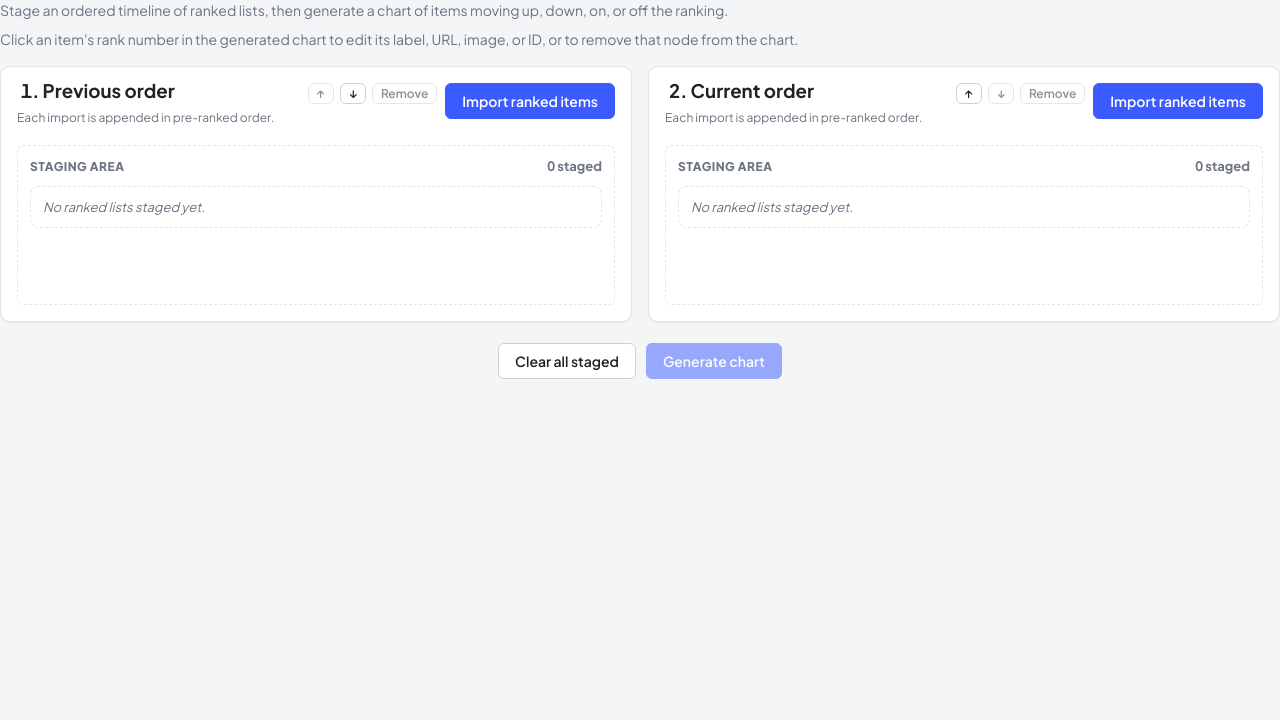
Test case: BumpChartPanel staging flow › inserts picked sort versions at the clicked column instead of the end
Click the 1st button "Import ranked items" at [530, 101], box [445, 83, 615, 119]
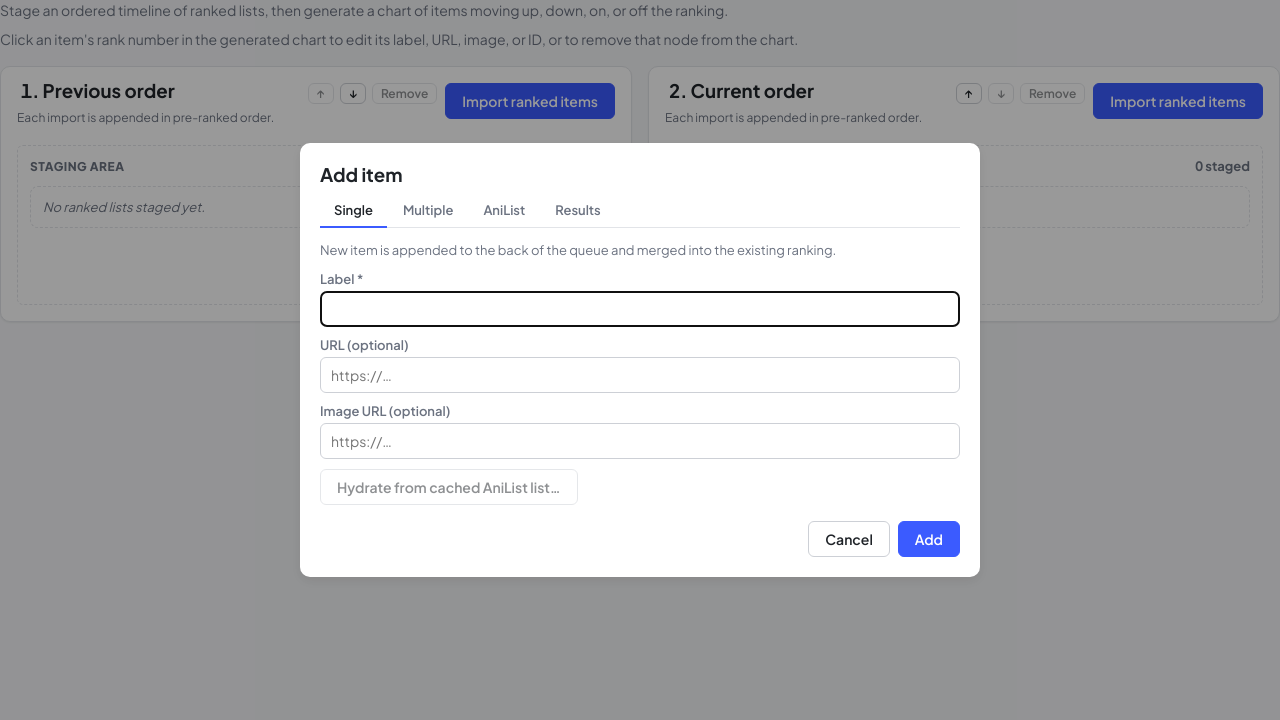
Click the tab "Results" at [578, 211], box [541, 194, 615, 228]
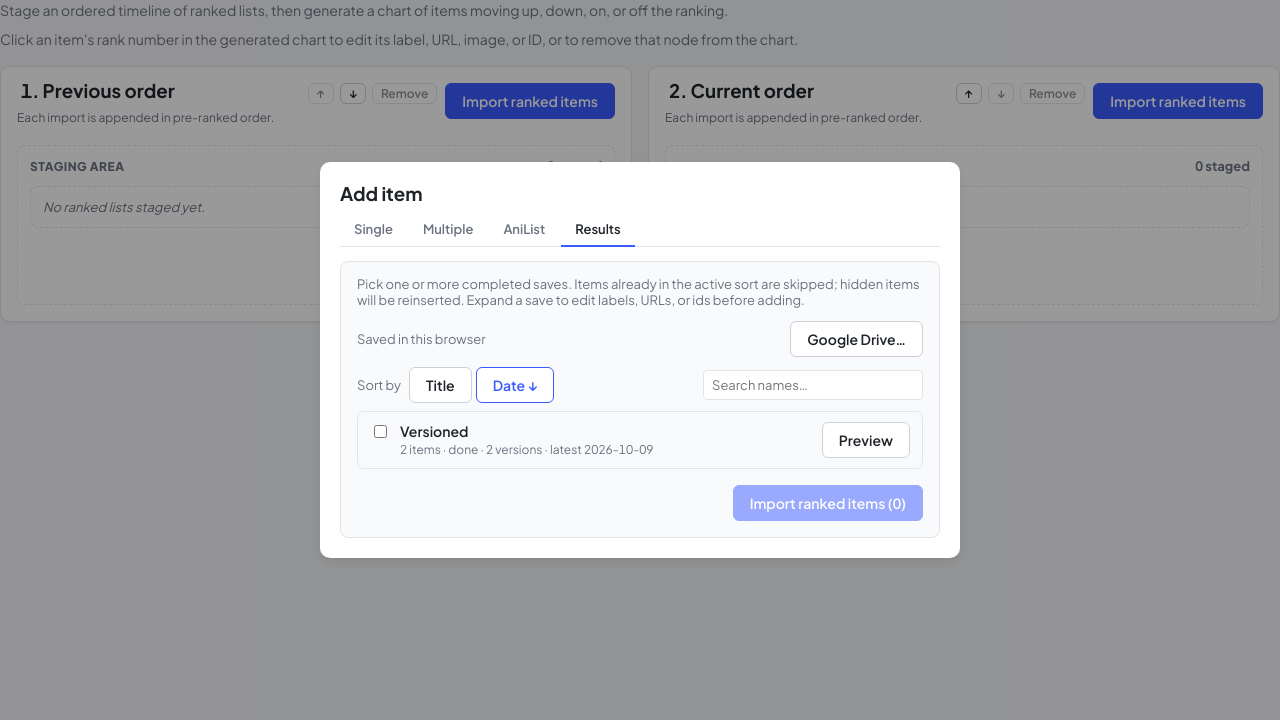
Click the checkbox named "Select Versioned" at [380, 432], box [374, 425, 387, 438]
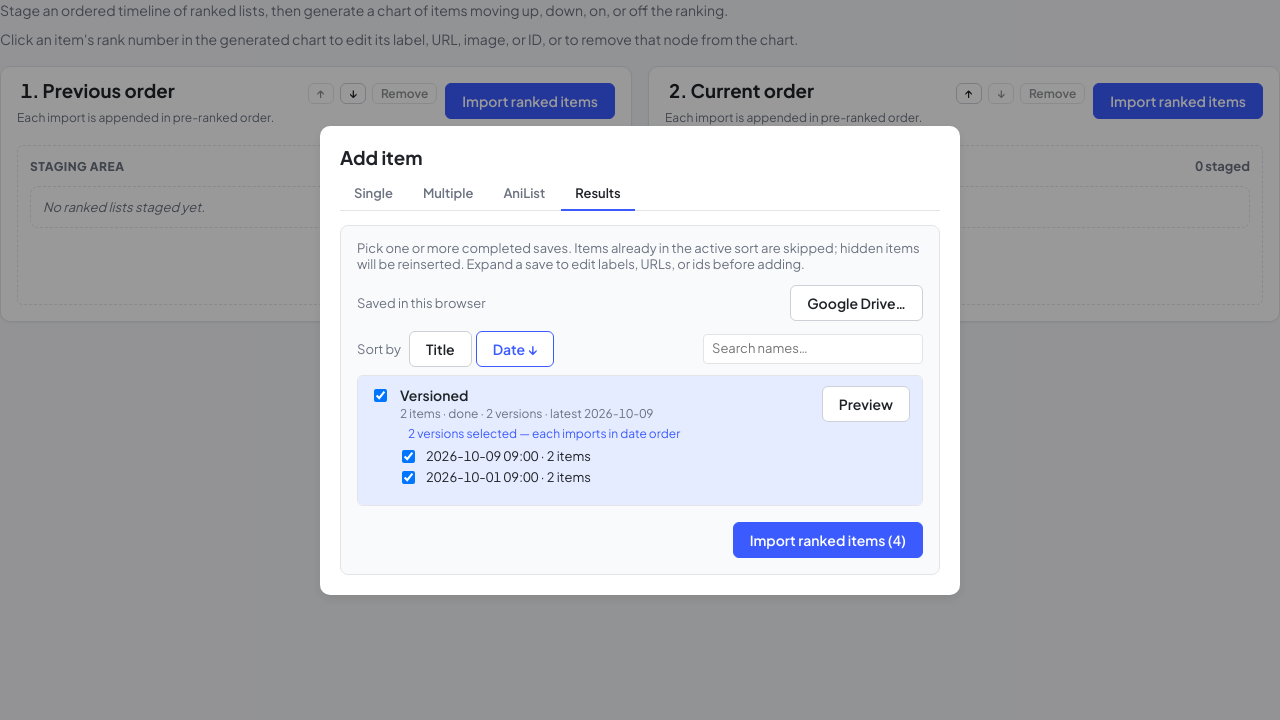
Click the button "Import ranked items (4)" at [828, 540], box [733, 522, 923, 558]
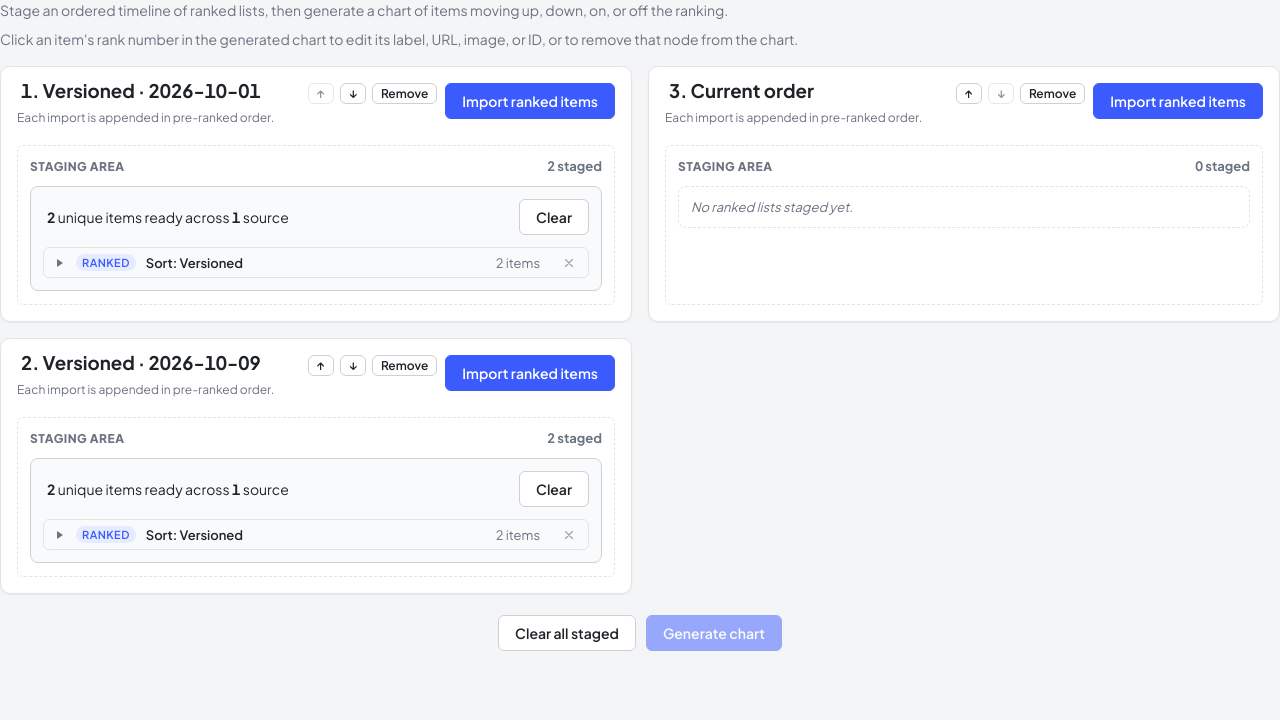
Expected: the element with class "bump-chart-import-card" shows "0 staged", [648, 66, 1279, 322]
Result: the element with class "bump-chart-import-card" shows "2 staged" at [0, 66, 632, 322]
